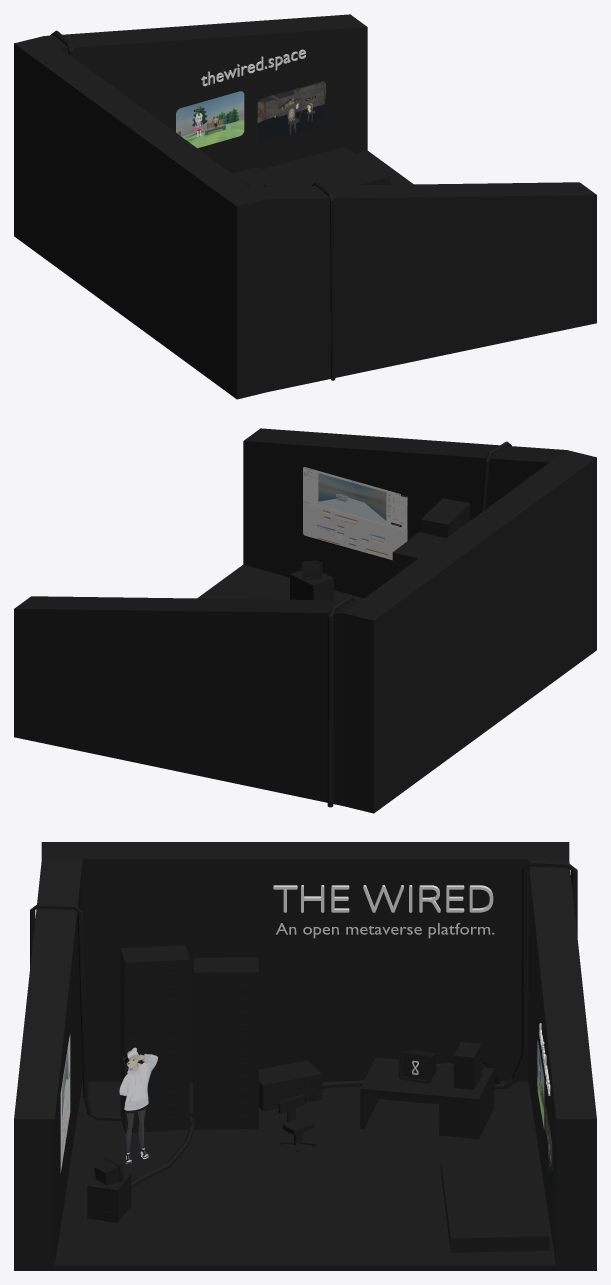
The model's file is Booth-Joined-Compressed.glb.
3 views of the same model, one above another, from view 1: azimuth 30°, elevation 25°; view 2: azimuth 150°, elevation 25°; view 3: azimuth 270°, elevation 25° (orthographic). The views are drawn at different scales.
Parts seen in each view (by area): view 1: Structure, Plane.006, Server, Text; view 2: Structure, Plane.006, Server; view 3: Structure, Server, Plane.006, Text, Monitor.
Boxes of the visible parts, x1=… form: Structure: x1=14, y1=14, x2=596, y2=399; Plane.006: x1=176, y1=81, x2=325, y2=148; Server: x1=50, y1=30, x2=335, y2=380; Text: x1=201, y1=49, x2=305, y2=86; Structure: x1=14, y1=428, x2=596, y2=813; Plane.006: x1=303, y1=467, x2=407, y2=560; Server: x1=290, y1=441, x2=511, y2=807; Structure: x1=14, y1=842, x2=596, y2=1270; Server: x1=30, y1=860, x2=577, y2=1222; Plane.006: x1=60, y1=1032, x2=552, y2=1193; Text: x1=273, y1=885, x2=550, y2=1095; Monitor: x1=398, y1=1049, x2=436, y2=1083.
Size of the model in its own units: 8.1 by 4.4 by 9.94.
Materials: 4 (2 with a texture image).
